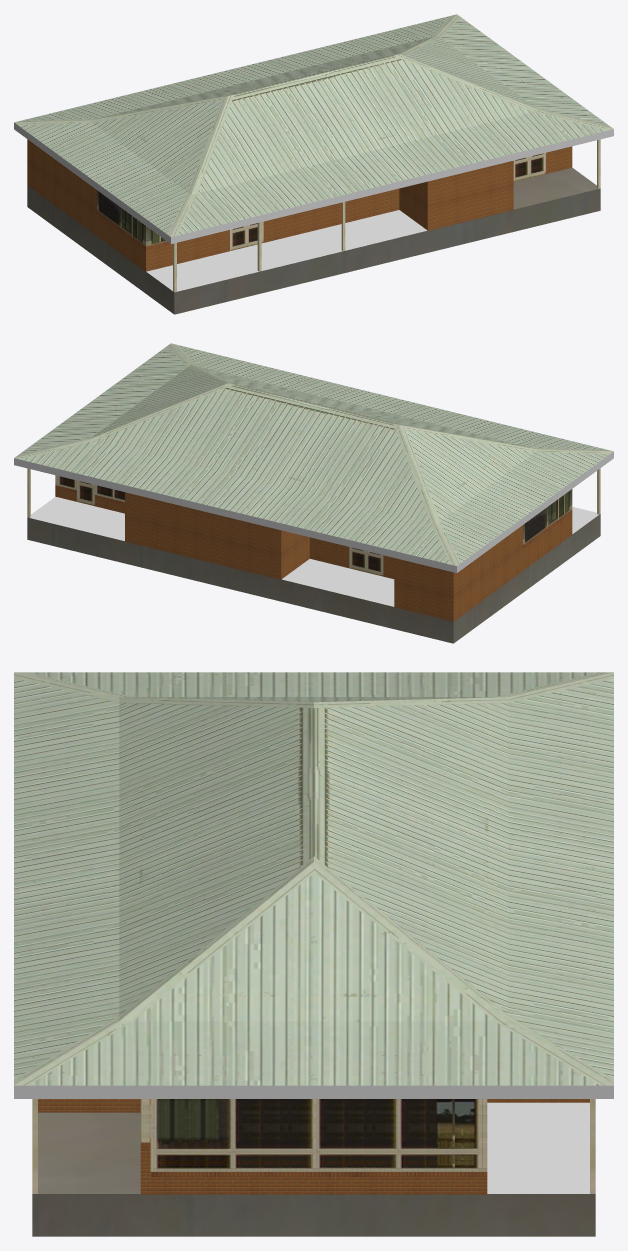
File: terminal-small-04-21x13-cbj_LOD00.gltf
3 renders of one model, top to bottom at view 1: azimuth 30°, elevation 25°; view 2: azimuth 150°, elevation 25°; view 3: azimuth 270°, elevation 25°, orthographic. The views are drawn at different scales.
Visible parts, largest first — view 1: Sketchup; view 2: Sketchup; view 3: Sketchup.
Part boxes in pixels (<box>): Sketchup: <box>14,14,613,314</box>; Sketchup: <box>14,343,613,643</box>; Sketchup: <box>14,672,613,1236</box>.
Size of the model in its own units: 21.22 by 6.12 by 13.02.
